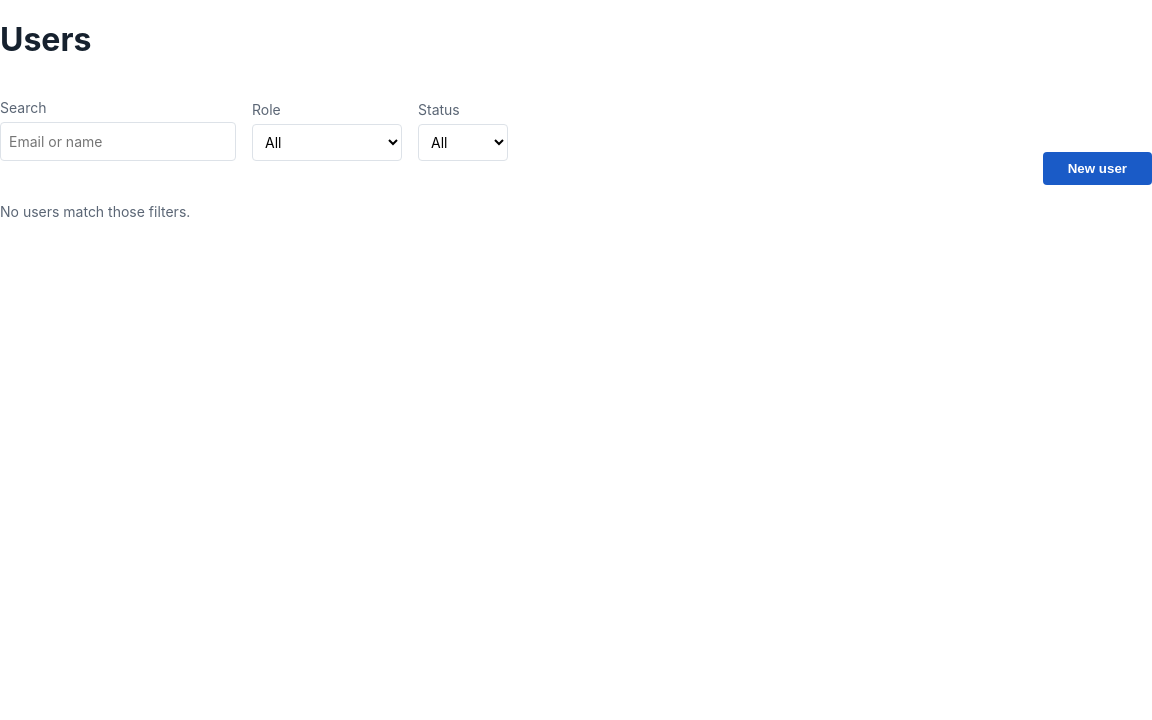
Test case: UsersPage › creates a user without a password and says a set-password email was sent
Click the button "New user" at (1097, 169), box x1=1043 y1=152 x2=1151 y2=185
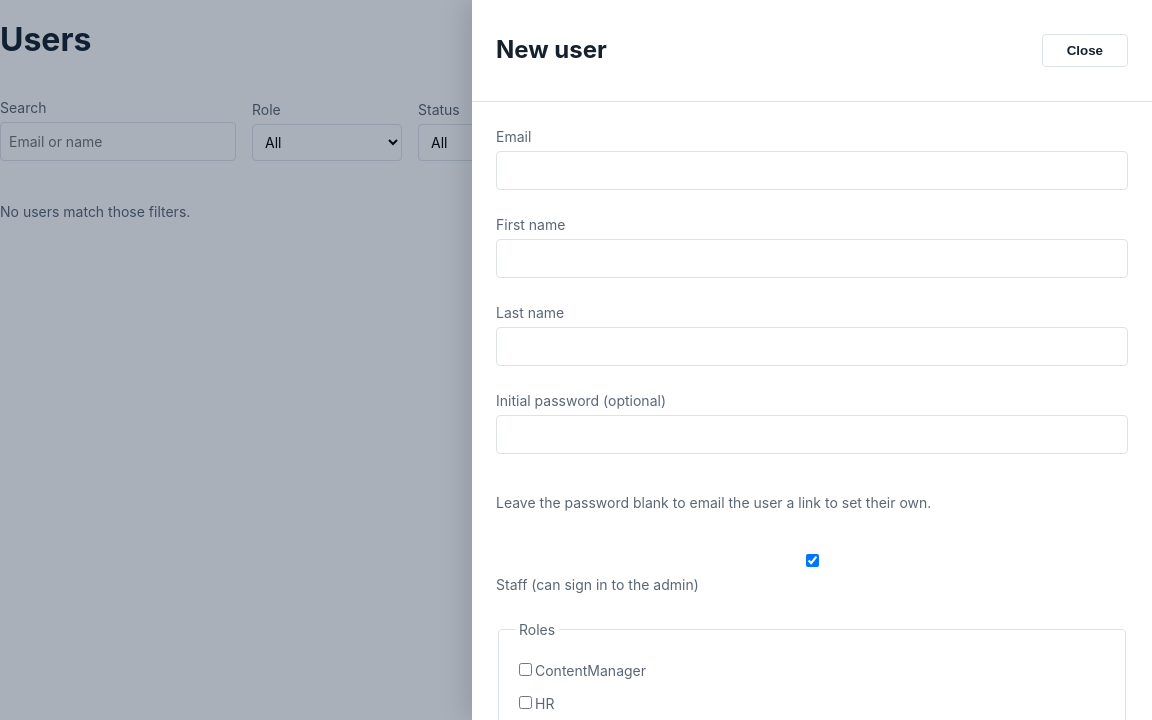
Type "new@mds.example" into the field labelled "Email" at (812, 170), box x1=496 y1=151 x2=1128 y2=190
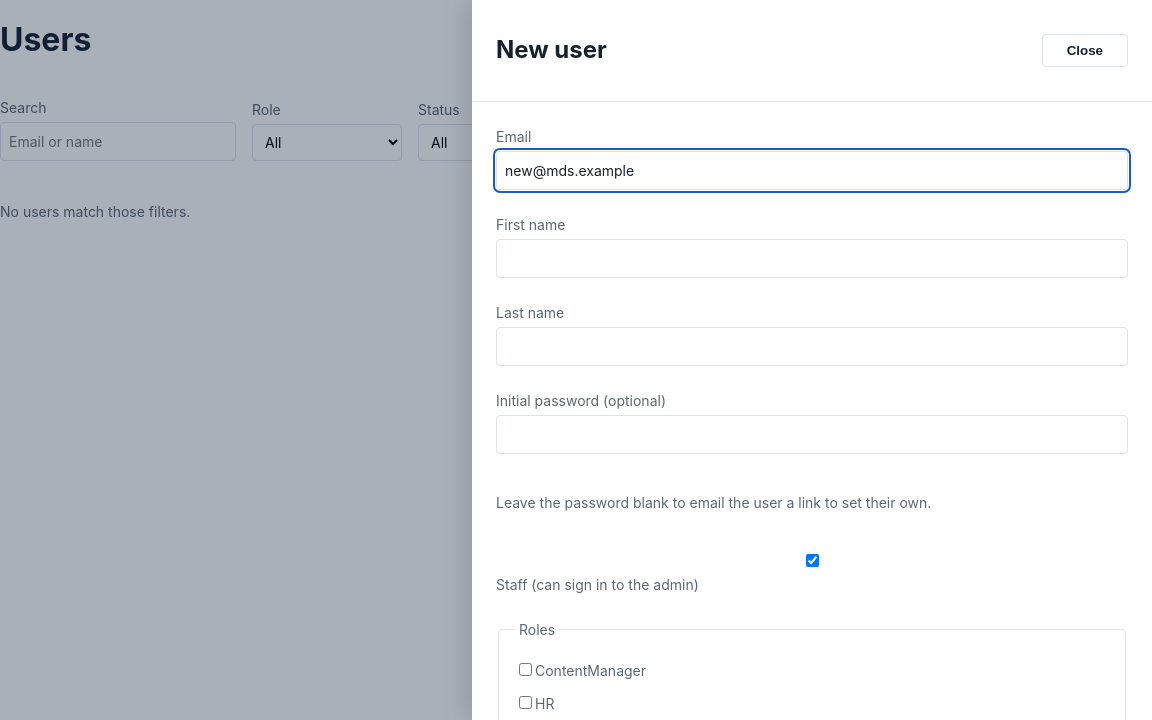
Type "New" into the field labelled "First name" at (812, 258), box x1=496 y1=239 x2=1128 y2=278
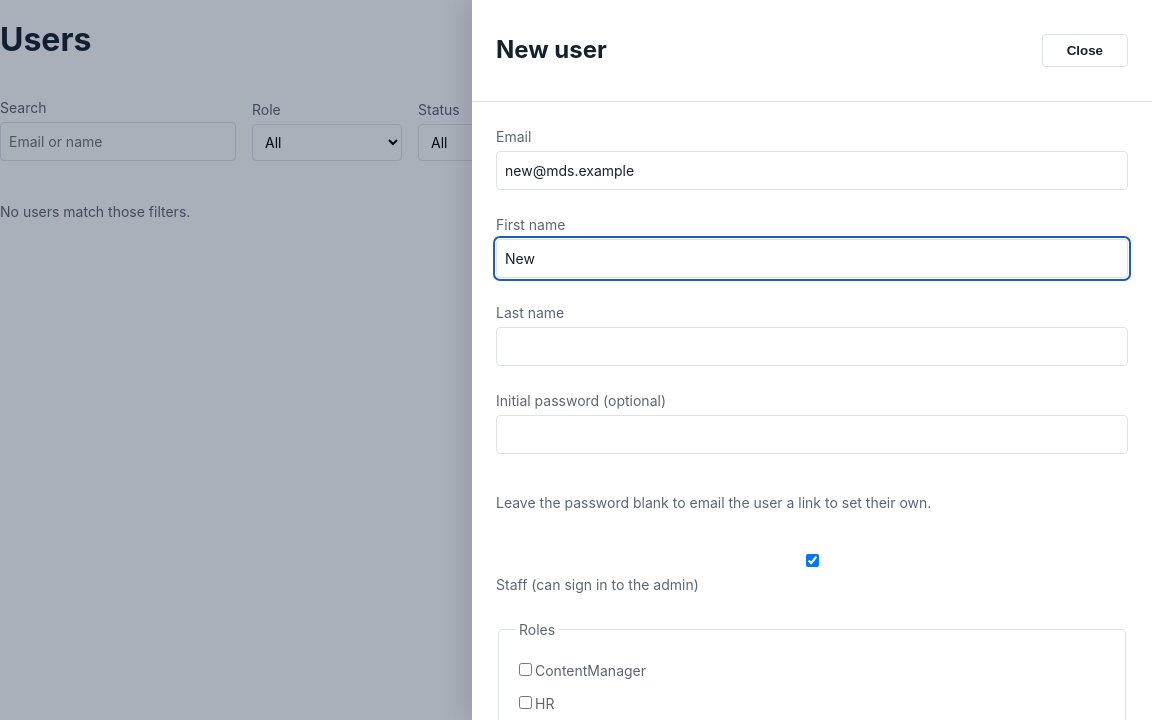
Click the checkbox labelled "HR" at (526, 702), box x1=519 y1=696 x2=532 y2=709
(page scrolled)
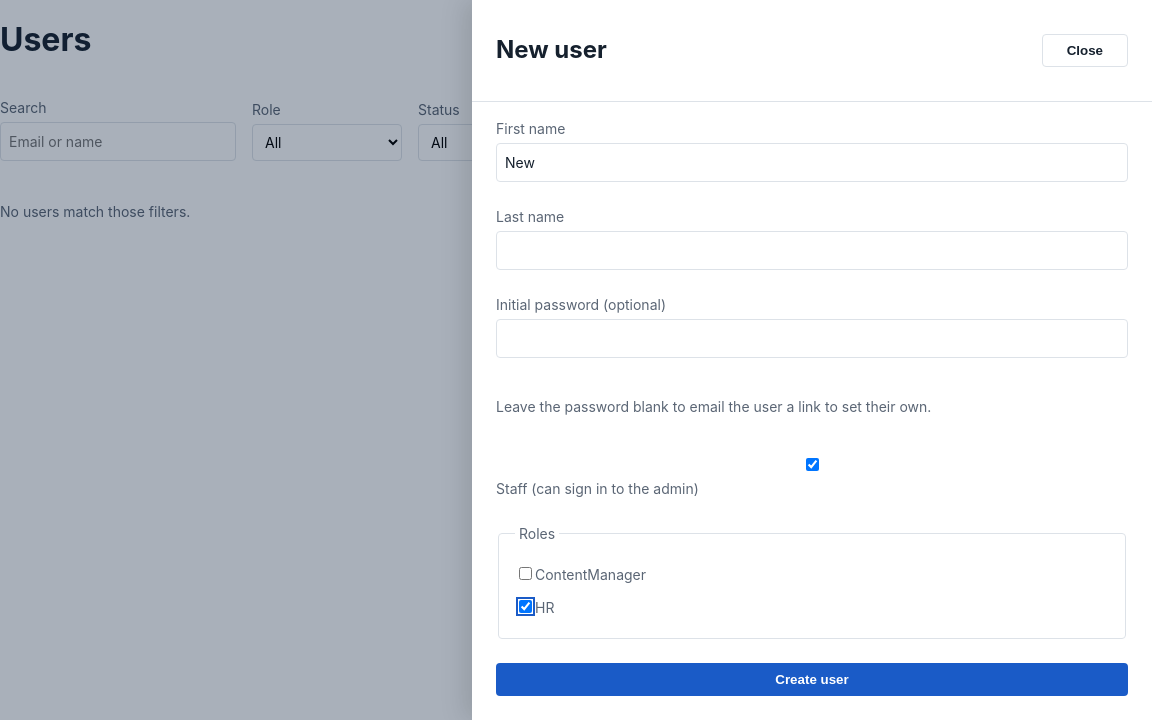
Click the button "Create user" at (812, 679), box x1=496 y1=663 x2=1128 y2=696
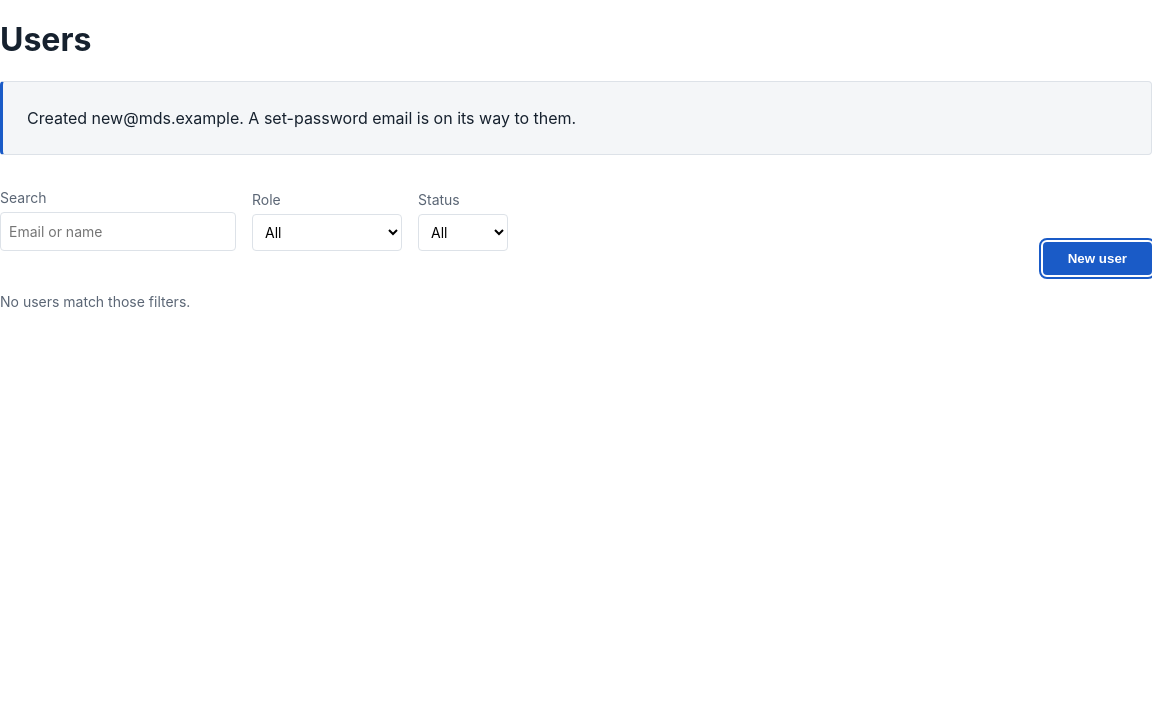
Check: the message shows "set-password email", box x1=27 y1=108 x2=576 y2=128
